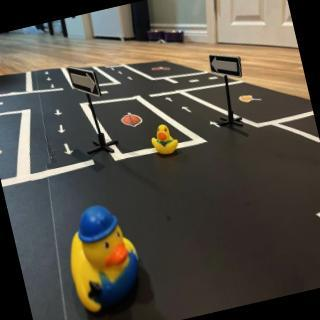duck_regular: (149, 121, 183, 160)
duck_specialty: (58, 200, 150, 320)
road_oneway: (62, 141, 76, 159), (209, 117, 223, 133), (181, 102, 195, 117), (55, 121, 68, 136), (164, 96, 177, 106), (54, 107, 64, 119), (126, 74, 136, 84), (117, 70, 125, 79), (44, 70, 51, 77), (47, 76, 53, 83), (51, 83, 57, 90)
sign_oneway_left: (209, 49, 246, 84)
sign_oneway_right: (65, 63, 103, 103)
